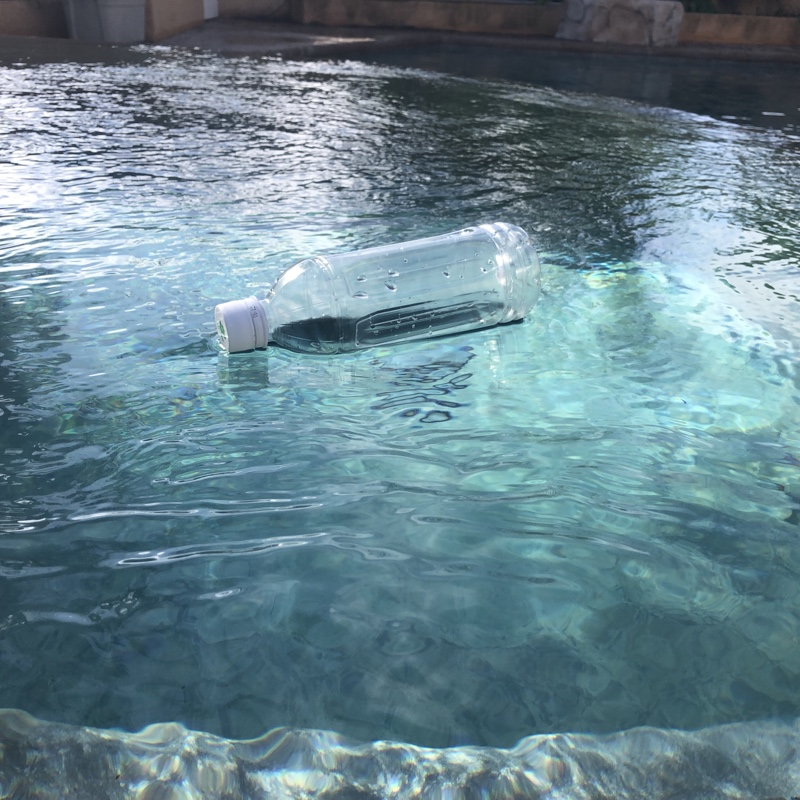Plastic Bottle: (211, 219, 543, 360)
